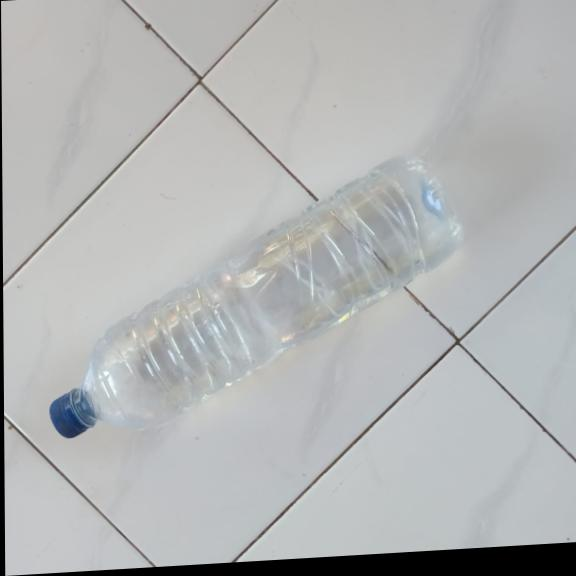Plastik: (46, 152, 465, 439)
